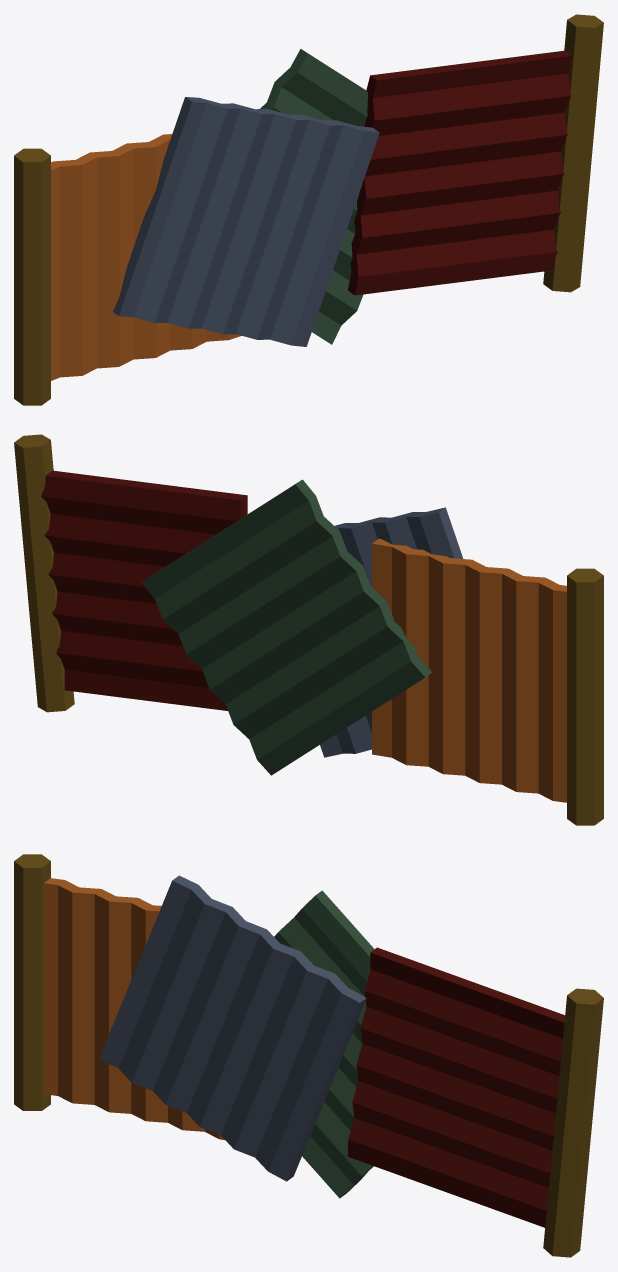
The model's file is FenceElement1.fbx.
The picture shows the model from 3 angles, top to bottom: view 1: azimuth 30°, elevation 25°; view 2: azimuth 150°, elevation 25°; view 3: azimuth 330°, elevation 25°; orthographic projection.
Visible parts, largest first — view 1: FenceElement1; view 2: FenceElement1; view 3: FenceElement1.
Boxes of the visible parts, x1,y1,x2,y2 form: FenceElement1: (14, 14, 603, 405); FenceElement1: (14, 434, 603, 825); FenceElement1: (14, 854, 603, 1257).
Bounding box in the file's own units: 447 × 219 × 33.02.
